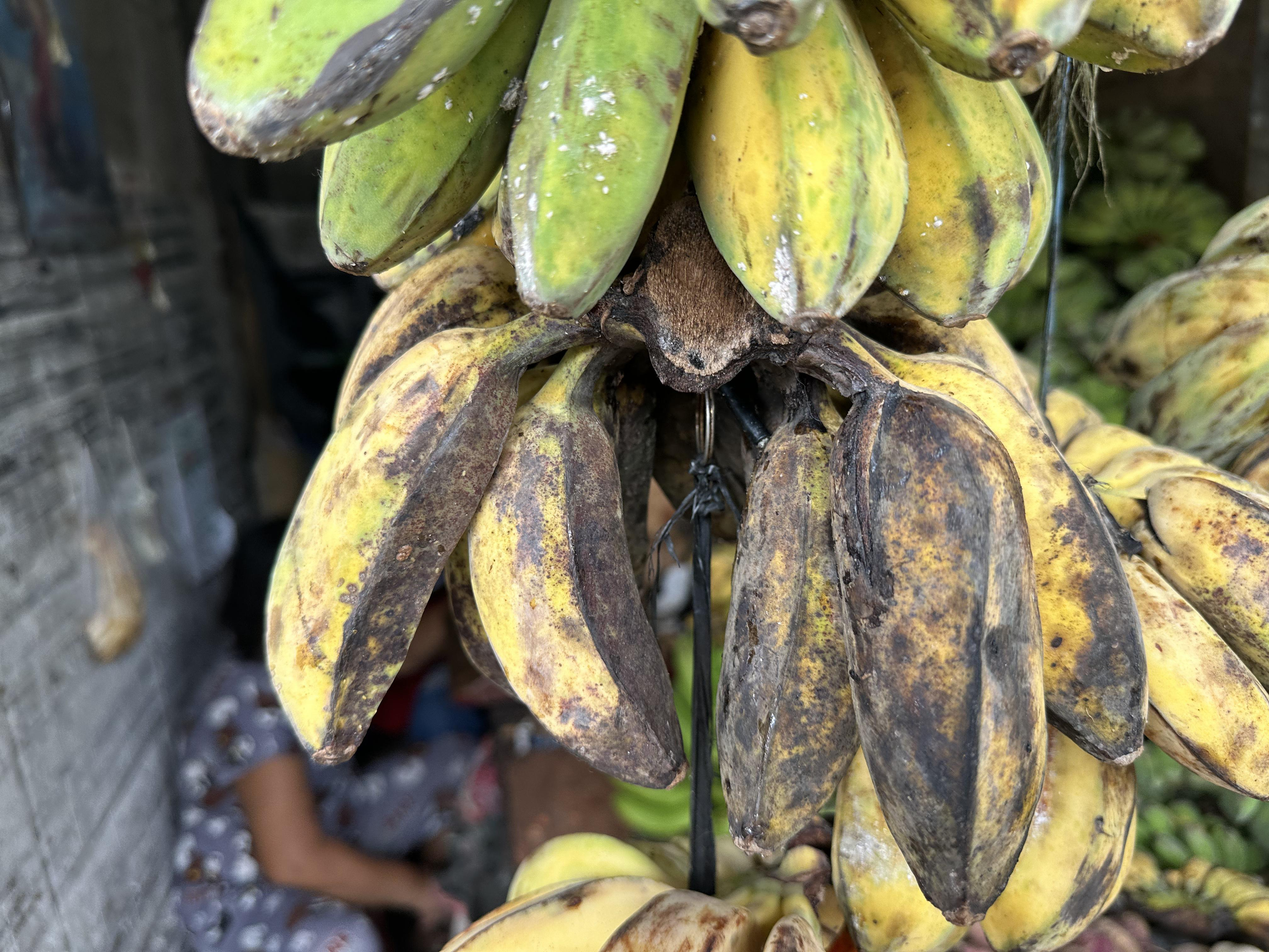ripe: (714, 288, 1150, 924), (263, 245, 689, 793), (1045, 384, 1269, 804)
underripe: (188, 0, 1251, 334), (1107, 194, 1269, 498)
